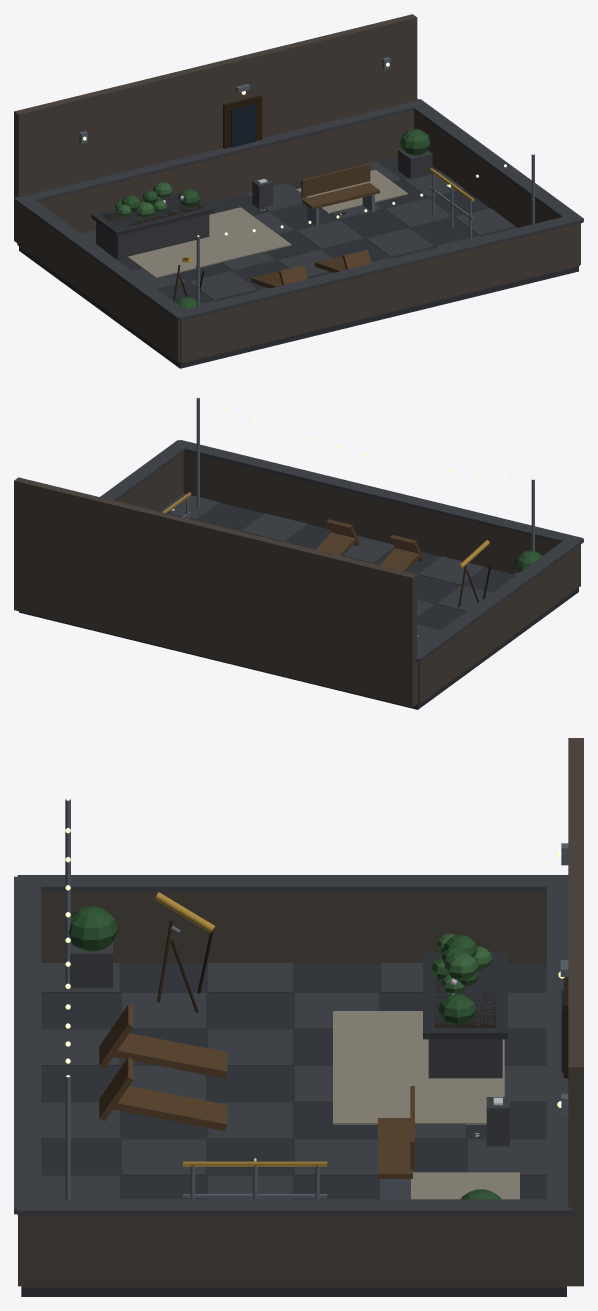
File: terrace.glb
3 views of the same model, one above another, from view 1: azimuth 30°, elevation 25°; view 2: azimuth 150°, elevation 25°; view 3: azimuth 270°, elevation 25° (orthographic). The views are drawn at different scales.
Visible parts, largest first — view 1: DoorWall, ParapetFront, Slab, ParapetBack, ParapetLeft, GravelPatch, ParapetRight, CapFront, CapBack, CapLeft, Planter, CapRight (+20 smaller); view 2: DoorWall, ParapetFront, ParapetLeft, Slab, CapFront, CapLeft, ParapetRight, CapRight, SlabTile6_0, SlabTile2_0, SlabTile4_0, SlabTile8_0 (+4 smaller); view 3: Slab, ParapetRight, ParapetLeft, GravelPatch, CapFront, CapLeft, CapRight, DoorWall, CapBack, PlanterRim, Planter, Lounger1 (+33 smaller).
Part boxes in pixels (x1,y1,x2,y2): DoorWall: (14, 14, 417, 242); ParapetFront: (180, 223, 579, 363); Slab: (19, 157, 578, 368); ParapetBack: (38, 110, 414, 233); ParapetLeft: (17, 203, 180, 362); GravelPatch: (127, 207, 291, 277); ParapetRight: (414, 111, 580, 264); CapFront: (173, 214, 583, 320); CapBack: (15, 98, 425, 202); CapLeft: (14, 197, 183, 320); Planter: (96, 214, 209, 260); CapRight: (411, 99, 583, 221); DoorWall: (14, 477, 417, 707); ParapetFront: (183, 451, 559, 574); ParapetLeft: (418, 544, 580, 703); Slab: (19, 503, 578, 709); CapFront: (173, 440, 583, 542); CapLeft: (417, 536, 583, 661); ParapetRight: (117, 452, 183, 511); CapRight: (100, 440, 191, 500); SlabTile6_0: (241, 513, 307, 541); SlabTile2_0: (418, 556, 485, 584); SlabTile4_0: (343, 535, 394, 563); SlabTile8_0: (159, 493, 219, 520); Slab: (21, 963, 566, 1296); ParapetRight: (21, 1215, 566, 1287); ParapetLeft: (41, 891, 546, 963); GravelPatch: (333, 1011, 504, 1124); CapFront: (14, 876, 41, 1214); CapLeft: (17, 875, 568, 891); CapRight: (17, 1199, 570, 1215); DoorWall: (568, 738, 583, 1286); CapBack: (547, 876, 574, 1214); PlanterRim: (423, 952, 507, 1039); Planter: (428, 1039, 502, 1078); Lounger1: (112, 1086, 227, 1131).
Size of the model in its own units: 10.19 by 3.25 by 7.31.
